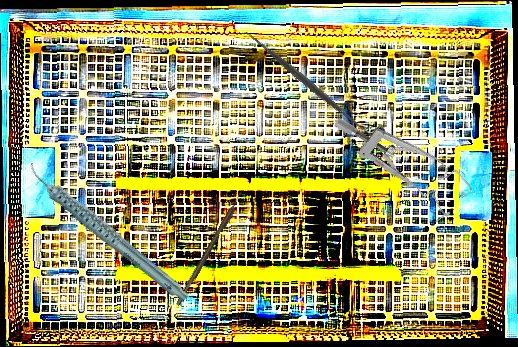Handpiece: (26, 134, 191, 328)
Hook Surgical: (174, 190, 246, 307)
Spatula Surgical: (238, 22, 374, 140)
Speculum: (330, 81, 478, 235)
